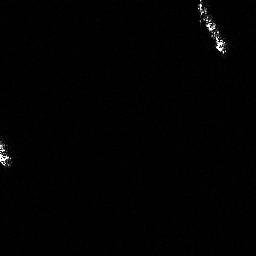ship: (193, 1, 234, 55)
